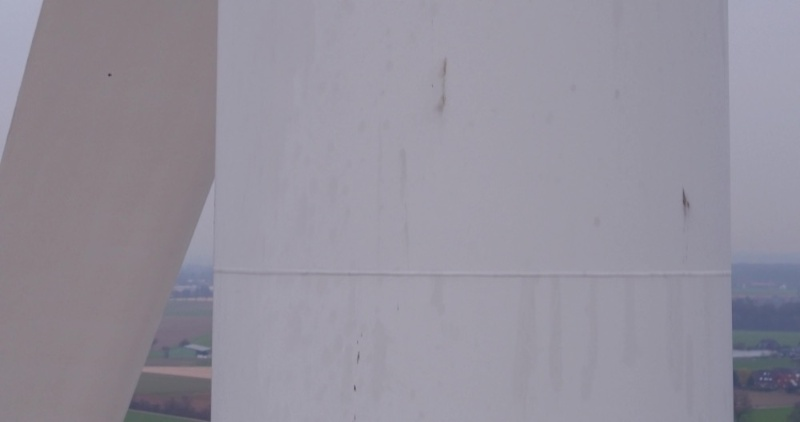weldseam: (212, 256, 733, 290)
